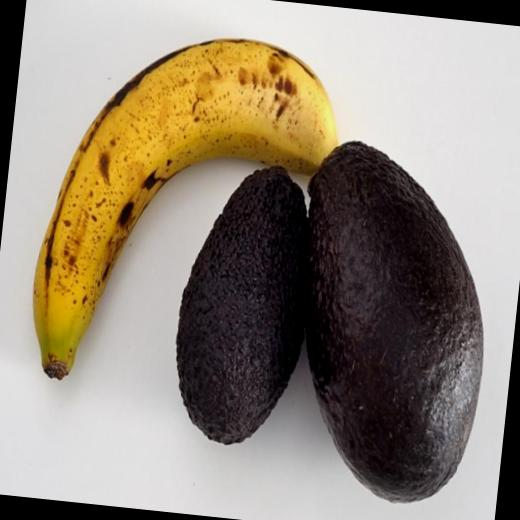Banana: (31, 0, 357, 414)
